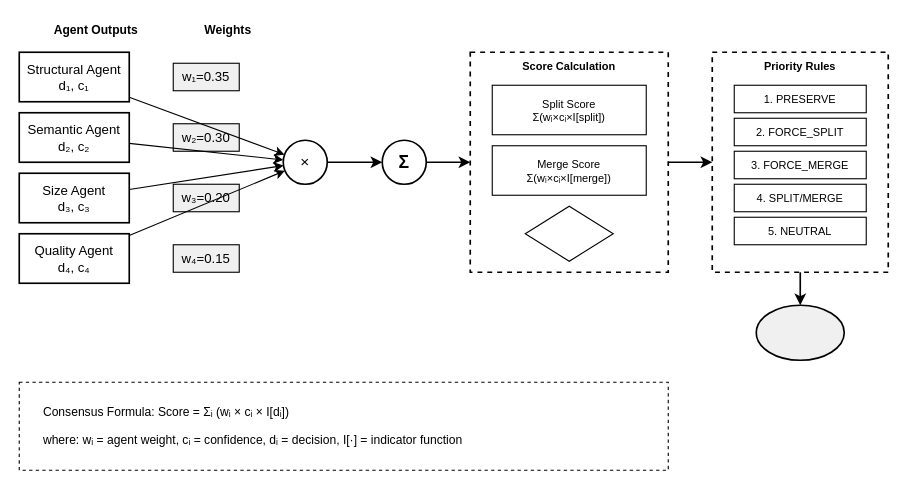
The diagram is 909 pixels wide and 490 high, and some of its shapes have lost their labels. Here are the shapes that lost their labels. From the top down, the box of each, then its label:
(524, 205, 613, 261): Compare
(755, 304, 845, 361): Final Decision
